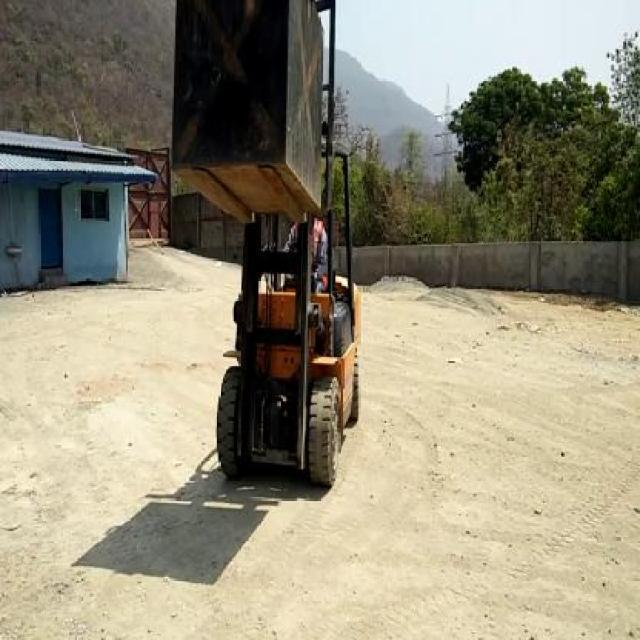forklift: (216, 200, 362, 491)
